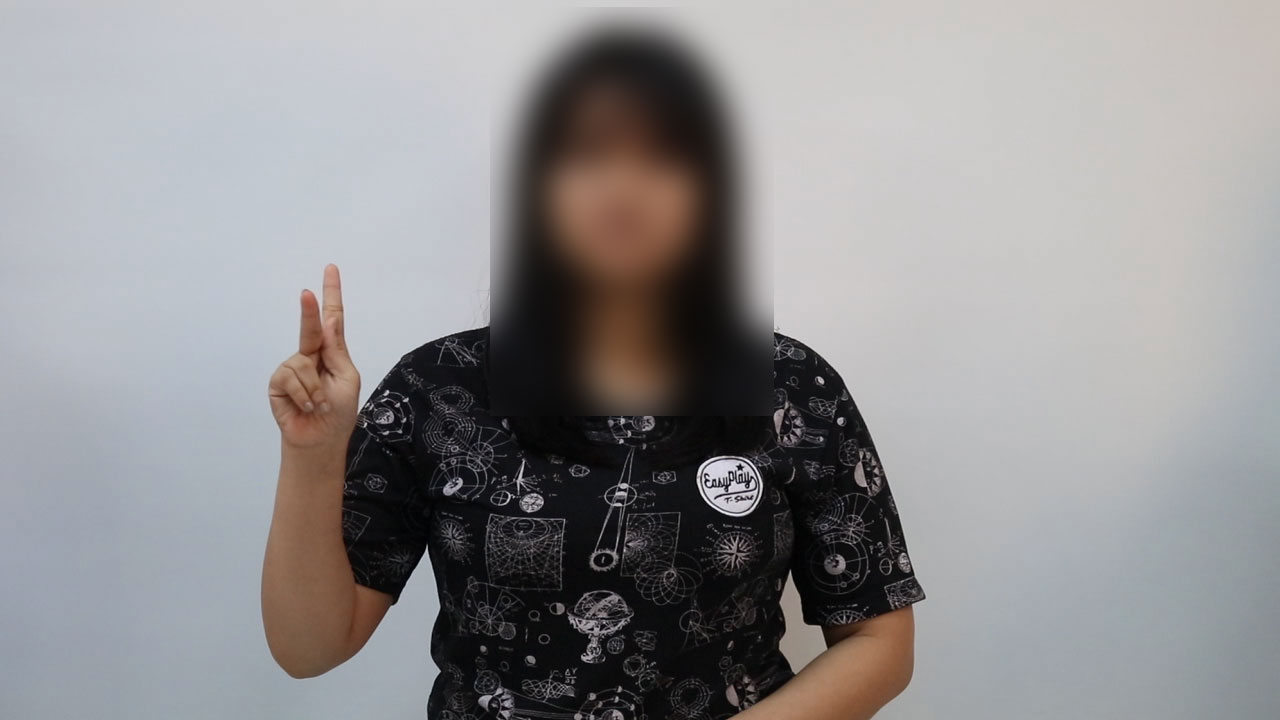ko: (193, 247, 413, 462)
